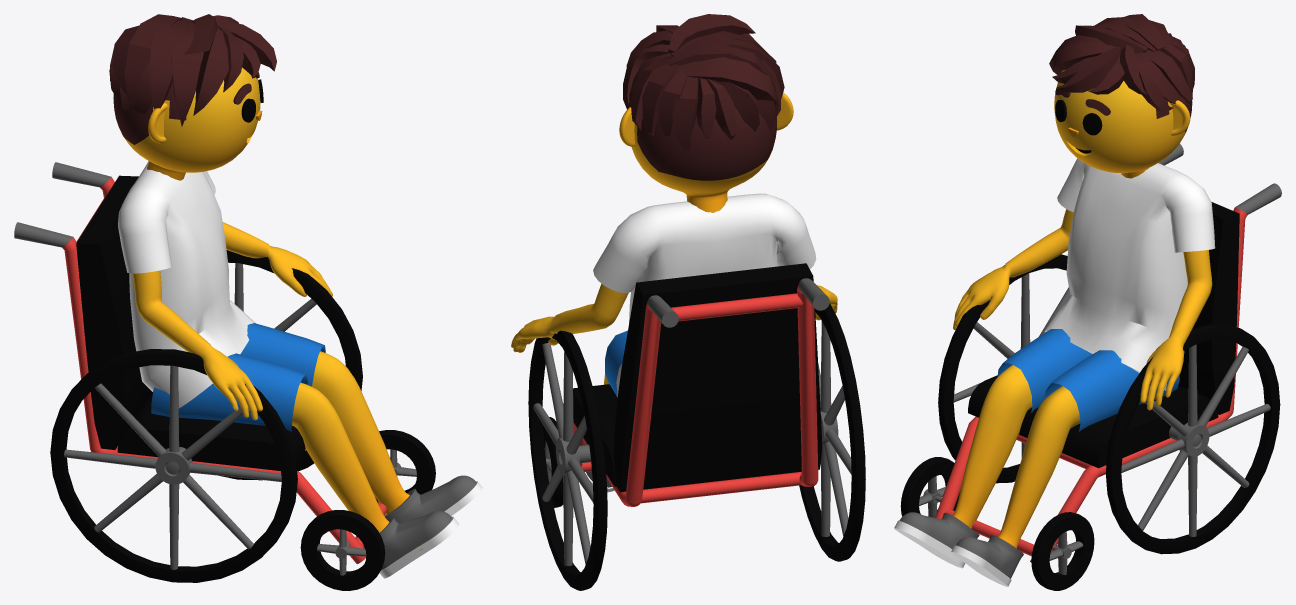
The model's file is person_in_manual_wheelchair.fbx.
3 renders of one model, left to right at view 1: azimuth 30°, elevation 25°; view 2: azimuth 150°, elevation 25°; view 3: azimuth 270°, elevation 25°, orthographic. The views are drawn at different scales.
Visible parts, largest first — view 1: Cube.3216, Circle.1224, Cube.3208, Roundcube.268, Sphere.223, Sphere.222; view 2: Cube.3216, Circle.1224, Cube.3208, Roundcube.268, Cylinder.223; view 3: Circle.1224, Cube.3216, Cube.3208, Roundcube.268, Sphere.223, Sphere.222, Circle.1225, Cylinder.223.
Boxes of the visible parts, bbox=[...] form: Cube.3216: bbox=[14, 162, 435, 590]; Circle.1224: bbox=[118, 161, 422, 550]; Cube.3208: bbox=[109, 14, 276, 126]; Roundcube.268: bbox=[113, 52, 260, 180]; Sphere.223: bbox=[364, 511, 459, 578]; Sphere.222: bbox=[384, 475, 482, 523]; Cube.3216: bbox=[528, 263, 865, 590]; Circle.1224: bbox=[511, 193, 837, 485]; Cube.3208: bbox=[623, 14, 784, 151]; Roundcube.268: bbox=[631, 106, 777, 212]; Cylinder.223: bbox=[619, 93, 793, 146]; Circle.1224: bbox=[952, 158, 1215, 548]; Cube.3216: bbox=[900, 144, 1281, 590]; Cube.3208: bbox=[1049, 14, 1194, 110]; Roundcube.268: bbox=[1054, 69, 1192, 178]; Sphere.223: bbox=[894, 512, 979, 568]; Sphere.222: bbox=[951, 535, 1023, 586]; Circle.1225: bbox=[1055, 100, 1102, 135]; Cylinder.223: bbox=[1170, 100, 1190, 135].
Bounding box in the file's own units: 135 × 187 × 134.
2 materials, 2 textured.
